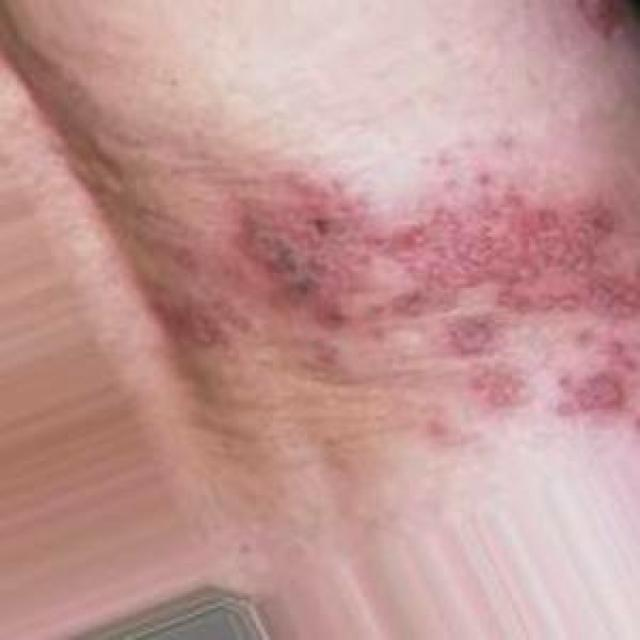Shingles: (233, 185, 640, 437)
